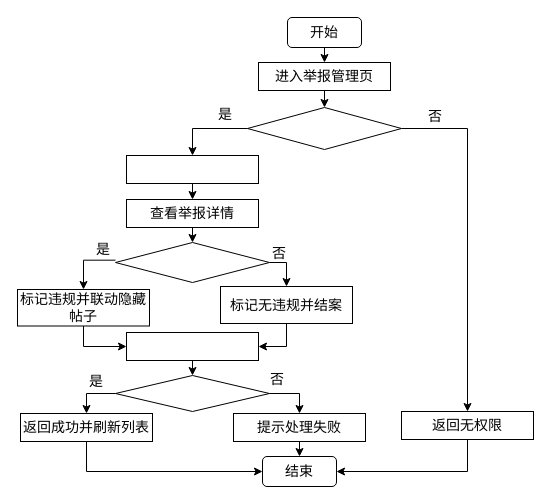
This 551x504 diagram has some shape labels left out. The centre of each missing label's shape, as x and y in pixels:
"保存处理结果" goes at [192,346].
"保存成功?" goes at [192,393].
"判定违规?" goes at [192,262].
"权限校验通过?" goes at [324,128].
"查询待处理举报" goes at [192,169].
